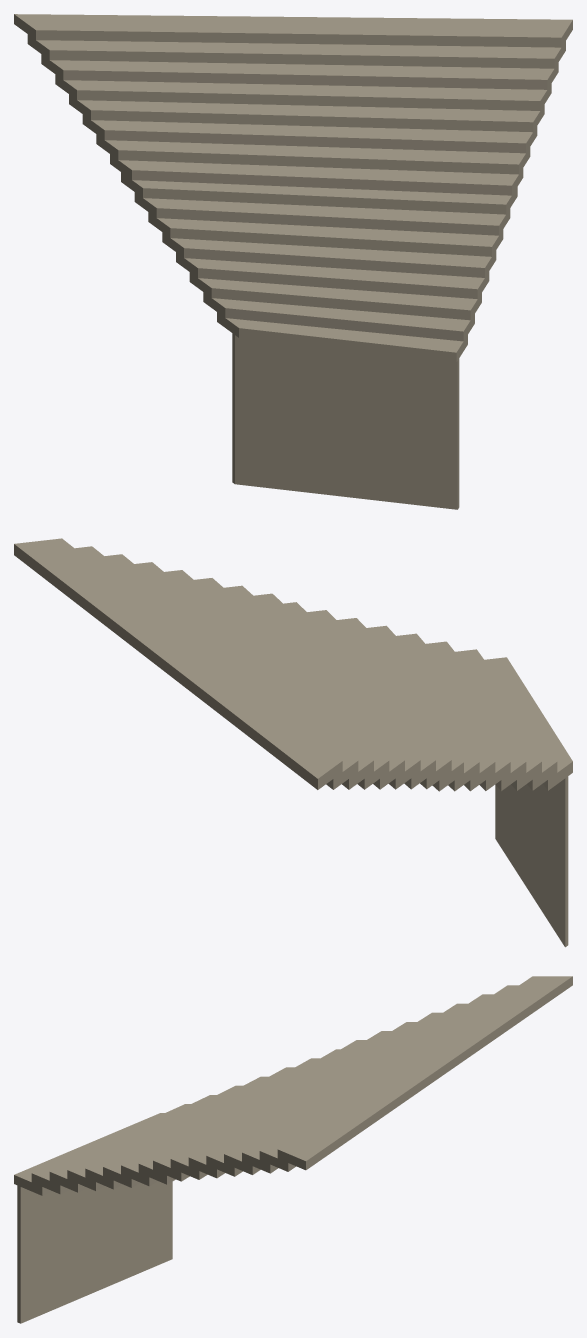
File: Wall Angled (Test).fbx
3 renders of one model, top to bottom at view 1: azimuth 30°, elevation 25°; view 2: azimuth 150°, elevation 25°; view 3: azimuth 270°, elevation 25°, orthographic. The views are drawn at different scales.
Parts seen in each view (by area): view 1: Wall_Angled_Seating17; view 2: Wall_Angled_Seating17; view 3: Wall_Angled_Seating17.
Boxes of the visible parts, x1,y1,x2,y2 form: Wall_Angled_Seating17: (14, 14, 572, 509); Wall_Angled_Seating17: (14, 538, 572, 947); Wall_Angled_Seating17: (14, 976, 572, 1323).
Size of the model in its own units: 870 by 620 by 1110.
